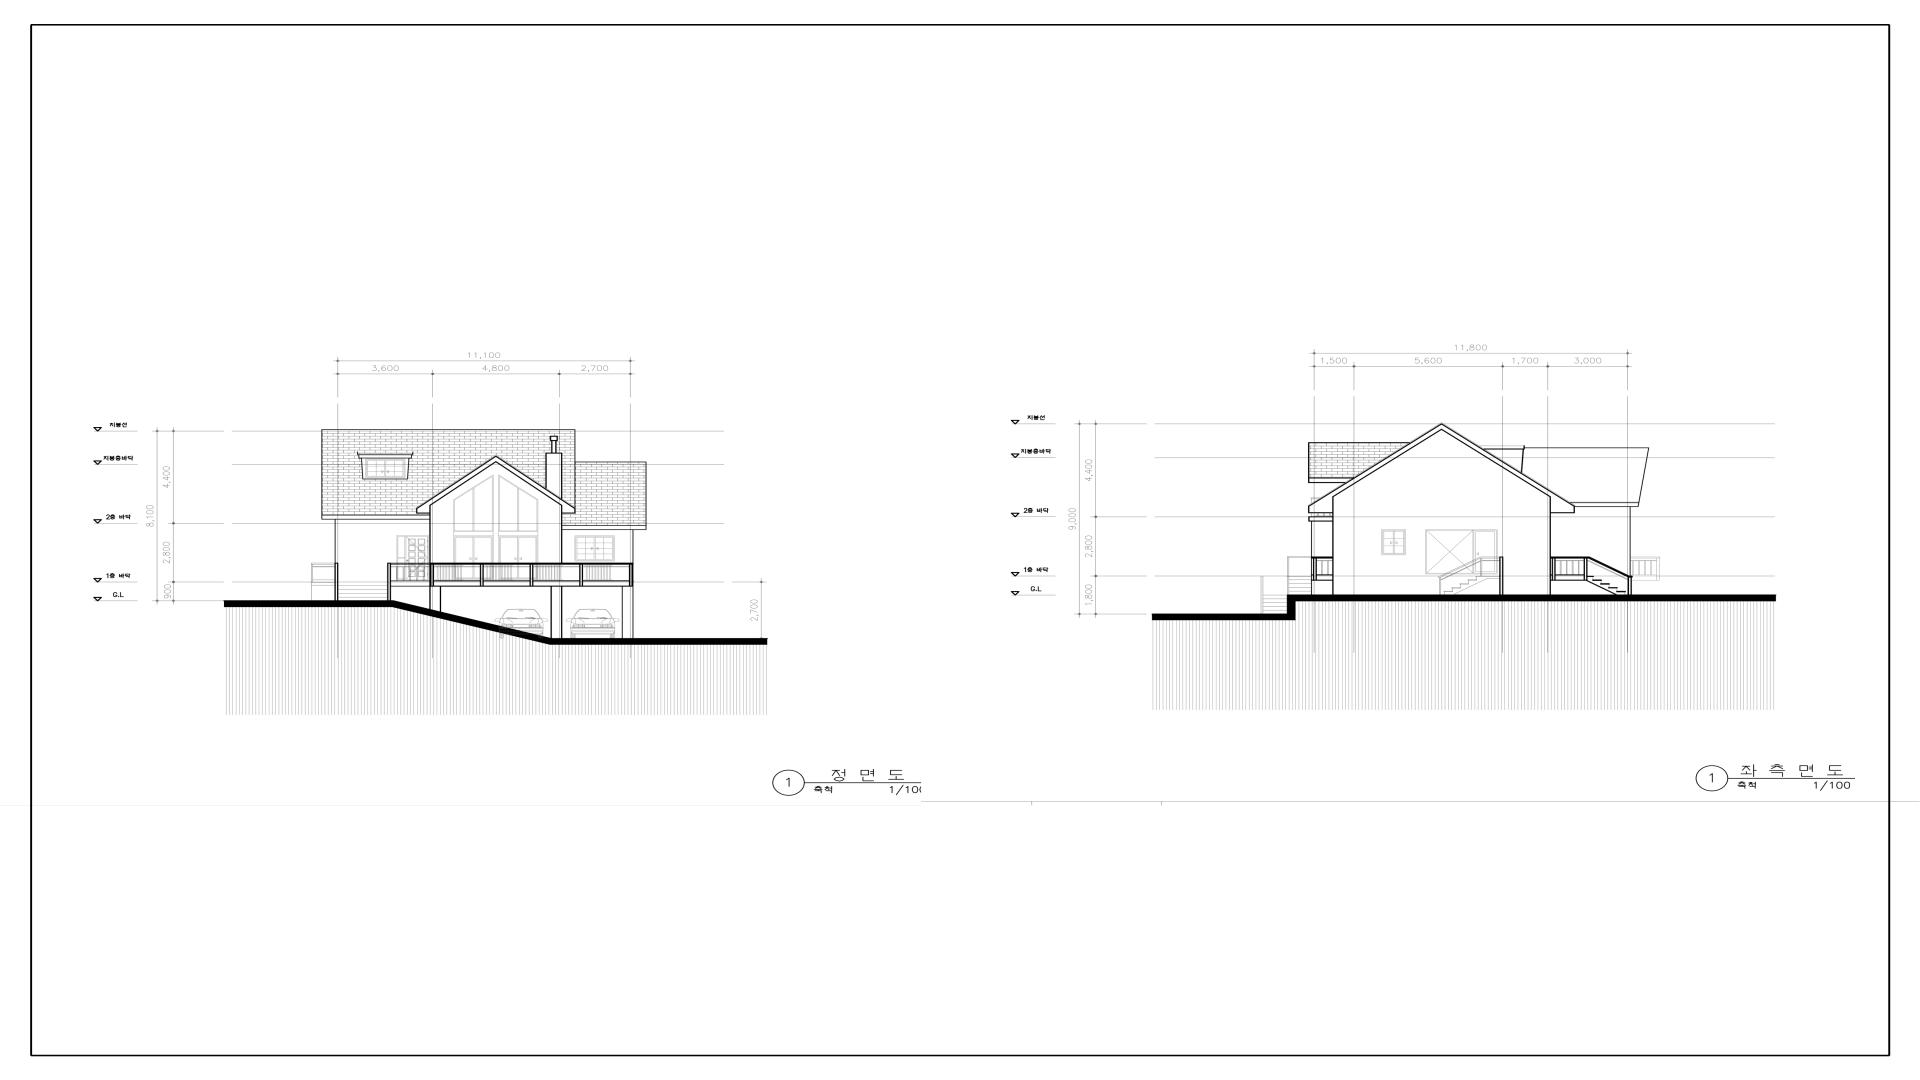door: (406, 537, 429, 580)
wall: (322, 430, 646, 645), (1308, 422, 1650, 601)
window: (1425, 530, 1498, 574), (454, 535, 493, 580), (498, 535, 538, 580), (575, 535, 615, 562), (500, 476, 518, 531), (475, 476, 492, 531), (365, 459, 405, 479), (518, 489, 537, 531), (455, 489, 473, 531), (1382, 530, 1406, 555)
